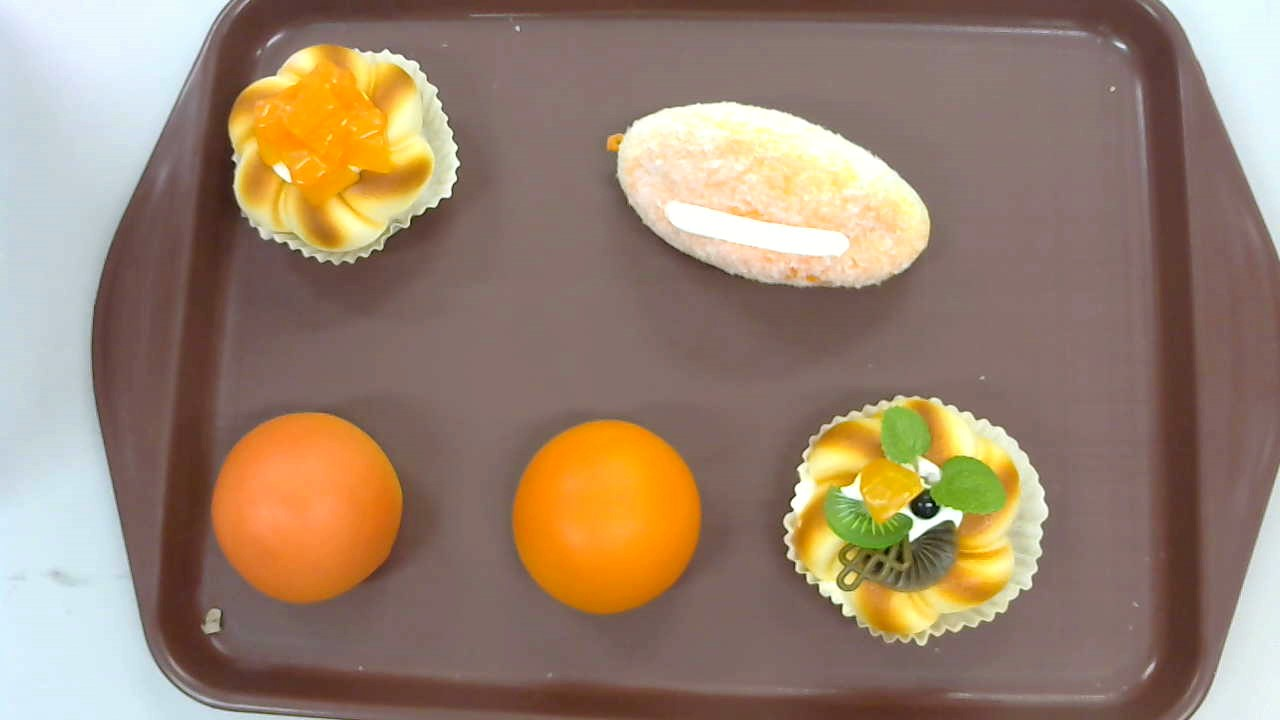bun: (211, 410, 403, 604), (512, 419, 700, 615)
coconut: (605, 101, 929, 289)
fruit tart: (781, 394, 1048, 647)
mango tart: (228, 44, 460, 270)
